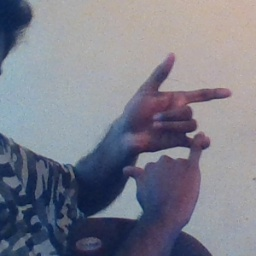S: (114, 52, 237, 217)
